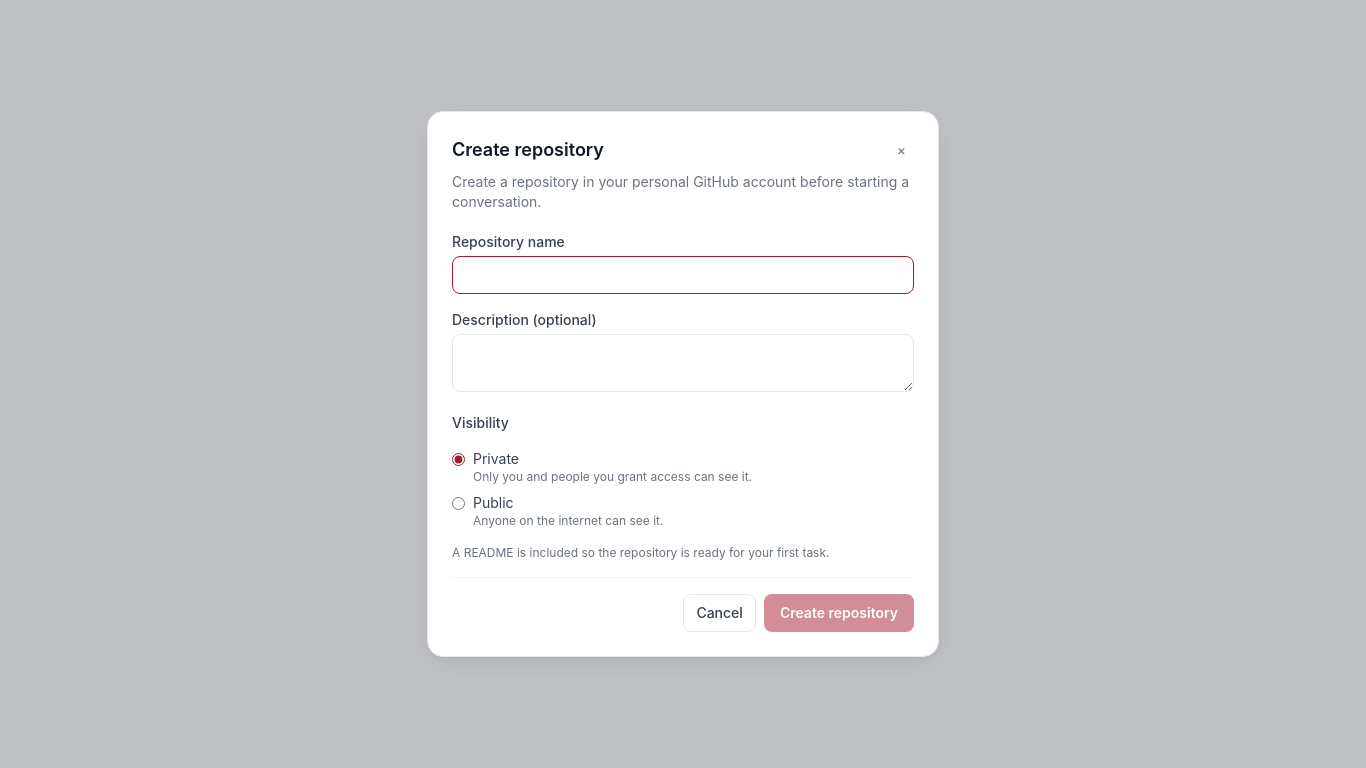
create repository dialog › shows a creation error without automatically retrying or checking access
This screenshot has width=1366, height=768.
Step 1. Type "new-project" into the field labelled "Repository name" → (683, 275), box [452,256,914,294]
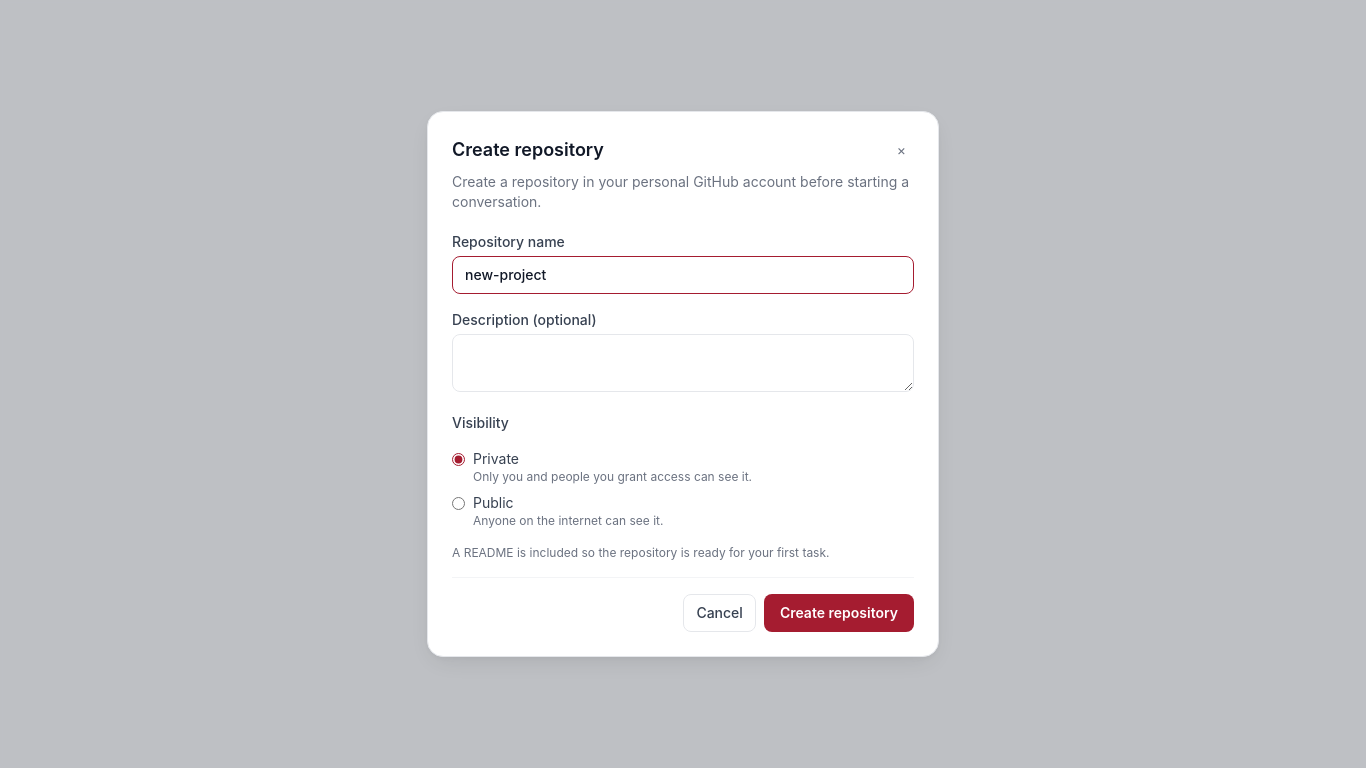
Step 2. Submit the form "Repository name", box [452,232,914,632]
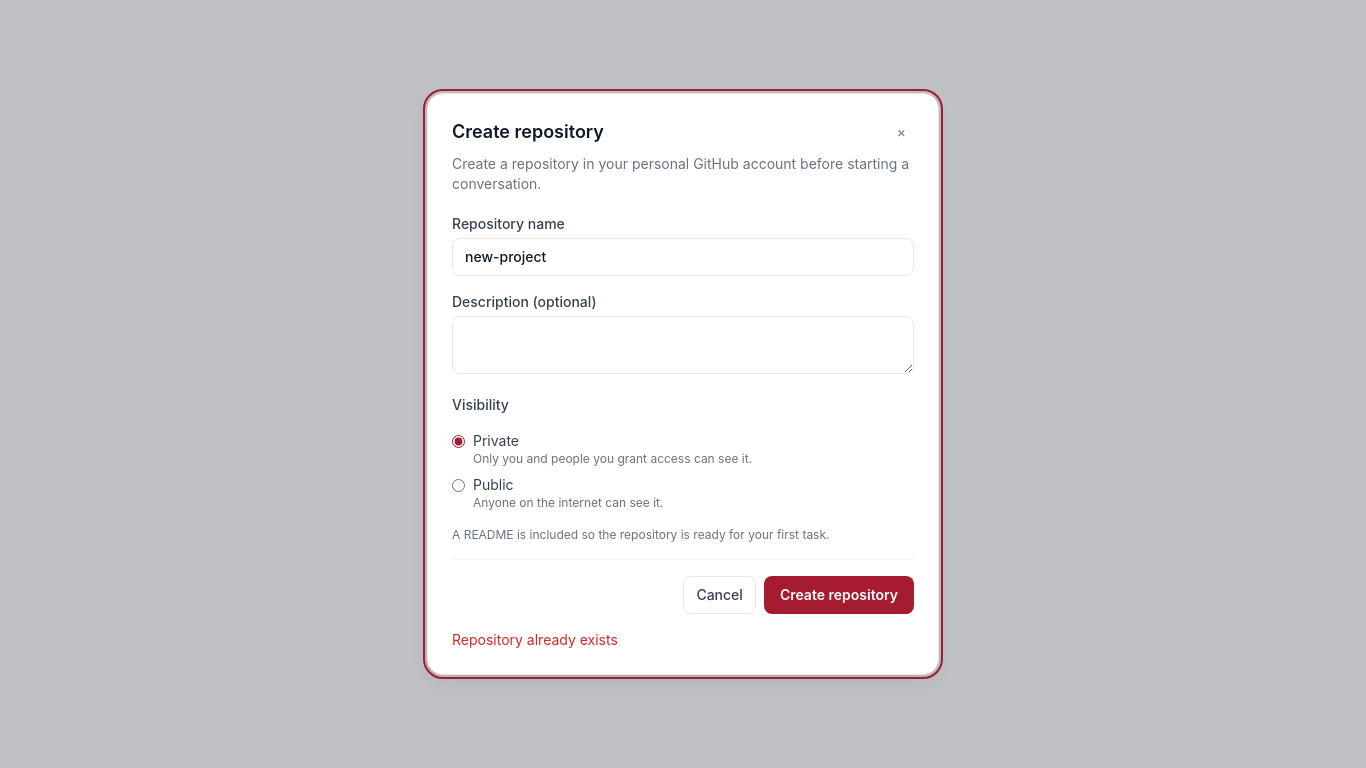
Expected: the button "Create repository" is enabled, [764,576,914,614]
Expected: the message reads "Repository already exists", [452,631,618,648]
